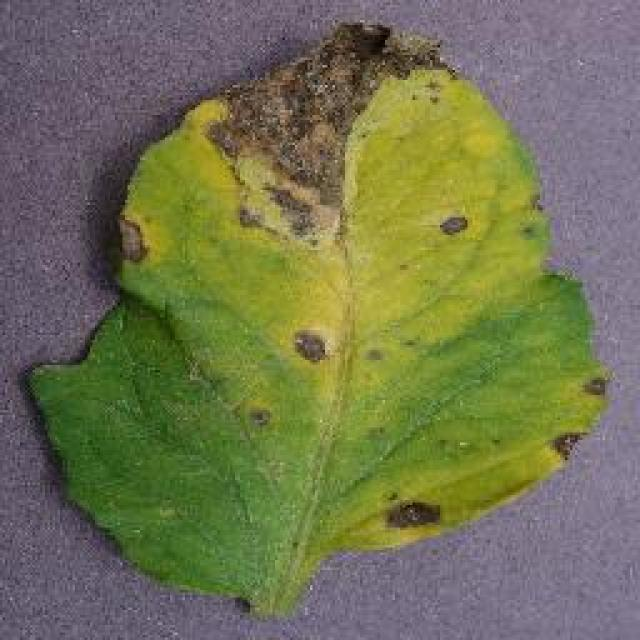Tomato___Septoria_leaf_spot: (30, 22, 605, 612)
